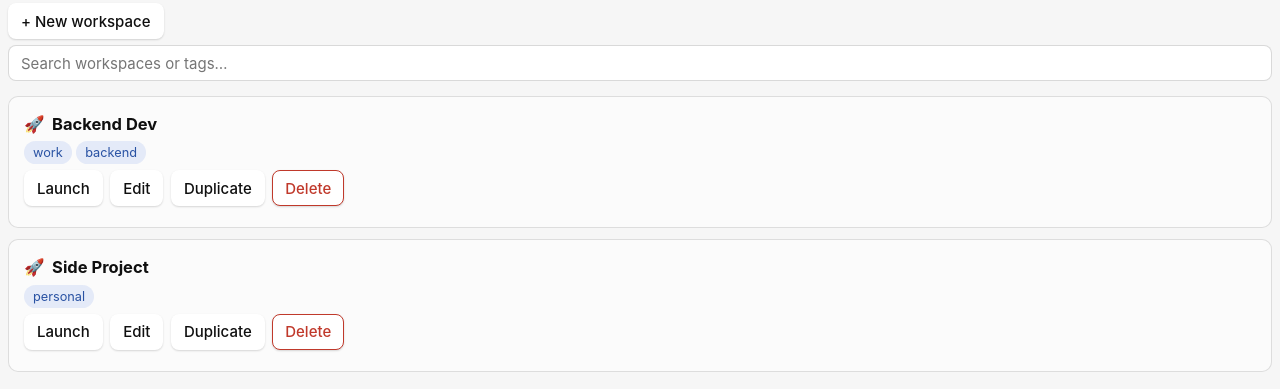
Scenario: WorkspaceList › filters by tag
This screenshot has width=1280, height=389.
In the field with placeholder "Search workspaces or tags…": (640, 63) top-left (8, 45), bottom-right (1272, 81), type "backend"
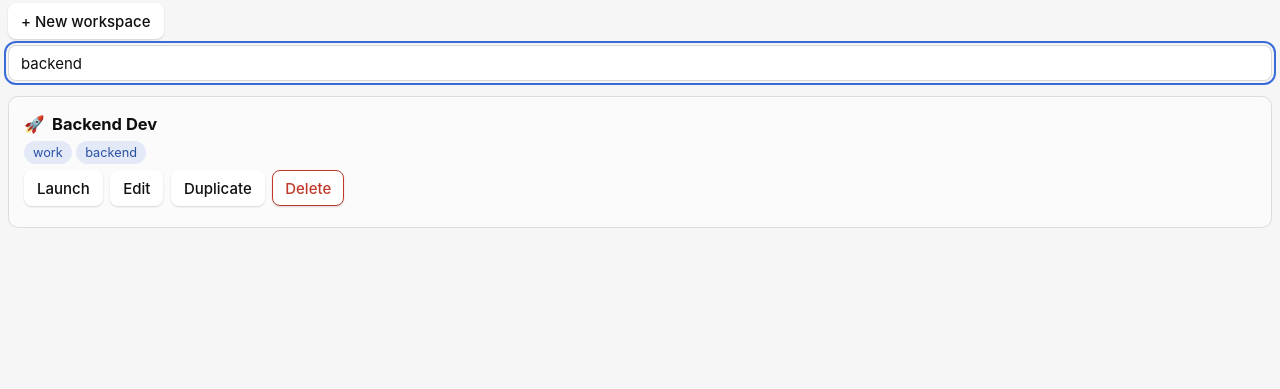
Expected: the text "Backend Dev" is shown, top-left (52, 112), bottom-right (157, 137)
Expected: the text "Side Project" is gone
